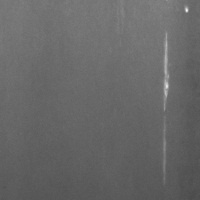scratches: (156, 28, 174, 188), (182, 3, 192, 16)
